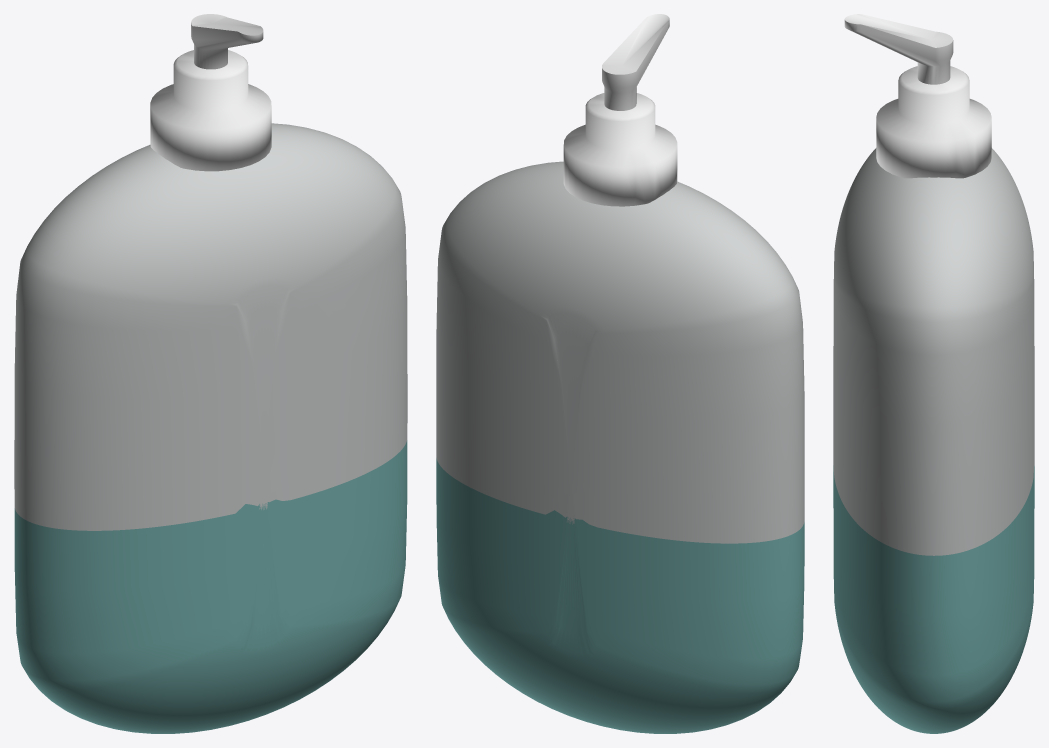
File: com_bath2_soap.obj
The picture shows the model from 3 angles, left to right: view 1: azimuth 30°, elevation 25°; view 2: azimuth 150°, elevation 25°; view 3: azimuth 270°, elevation 25°; orthographic projection. The views are drawn at different scales.
Visible parts, largest first — view 1: 1_1, 2_2, 3_3, 4_4; view 2: 1_1, 2_2, 3_3, 4_4; view 3: 1_1, 2_2, 3_3, 4_4.
Part boxes in pixels (<box>): 1_1: <box>14,123,407,530</box>; 2_2: <box>14,440,407,733</box>; 3_3: <box>150,50,271,171</box>; 4_4: <box>191,14,263,69</box>; 1_1: <box>436,161,804,543</box>; 2_2: <box>436,458,804,733</box>; 3_3: <box>563,93,677,206</box>; 4_4: <box>602,14,669,110</box>; 1_1: <box>833,148,1034,555</box>; 2_2: <box>833,465,1034,733</box>; 3_3: <box>876,66,991,178</box>; 4_4: <box>844,14,953,84</box>.
Size of the model in its own units: 11.07 by 20.1 by 5.35.
